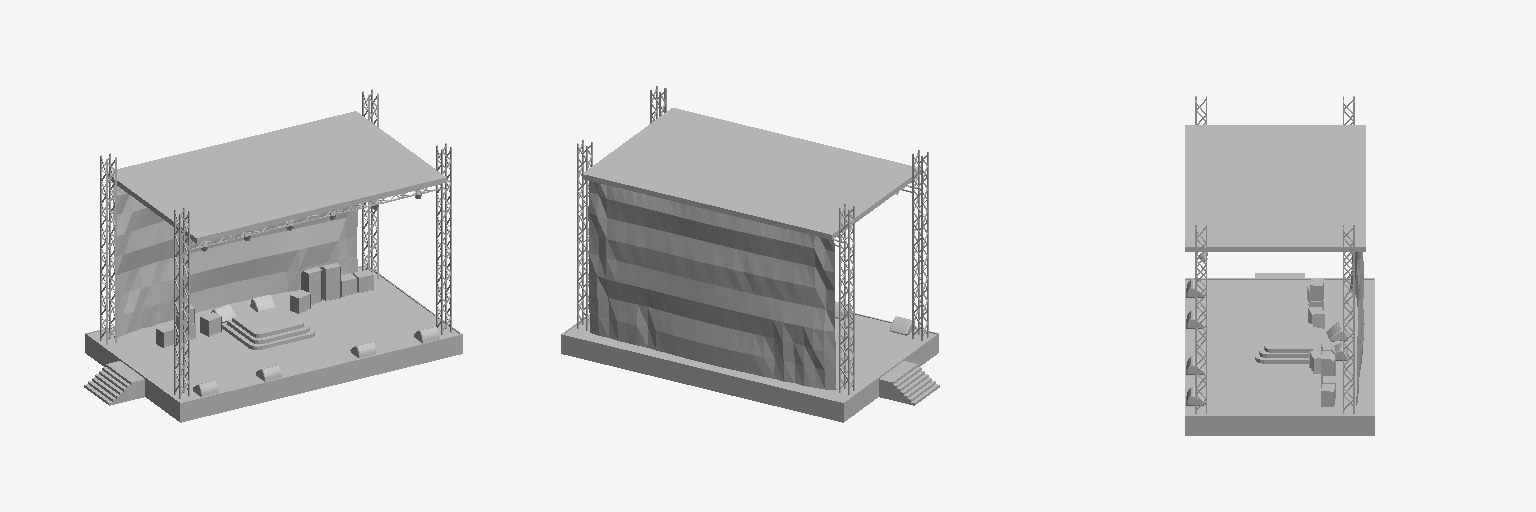
The model's file is stage.obj.
3 renders of one model, left to right at view 1: azimuth 30°, elevation 25°; view 2: azimuth 150°, elevation 25°; view 3: azimuth 270°, elevation 25°, orthographic.
Parts seen in each view (by area): view 1: concert-stage.main.final; view 2: concert-stage.main.final; view 3: concert-stage.main.final.
Boxes of the visible parts, x1=… form: concert-stage.main.final: x1=84, y1=89, x2=462, y2=422; concert-stage.main.final: x1=561, y1=86, x2=939, y2=422; concert-stage.main.final: x1=1185, y1=96, x2=1374, y2=435.
Size of the model in its own units: 11.01 by 6.74 by 5.71.